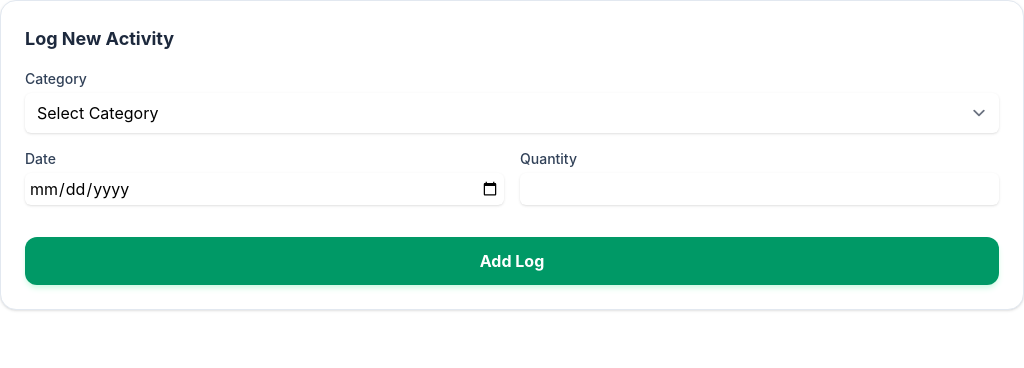
it: EmissionForm › shows validation error when submitting empty form
The image size is (1024, 368).
Click the button "Add Log": point(512, 261) [25,237,999,285]
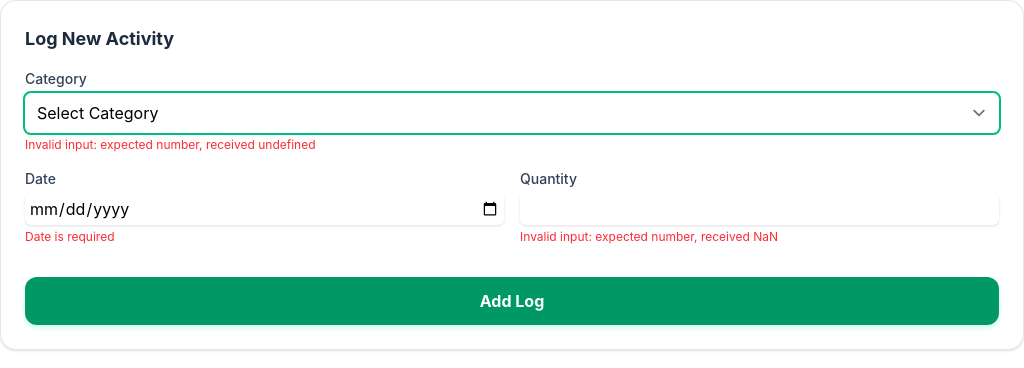
expect the text "Date is required" is shown: met, box [25,229,114,244]
